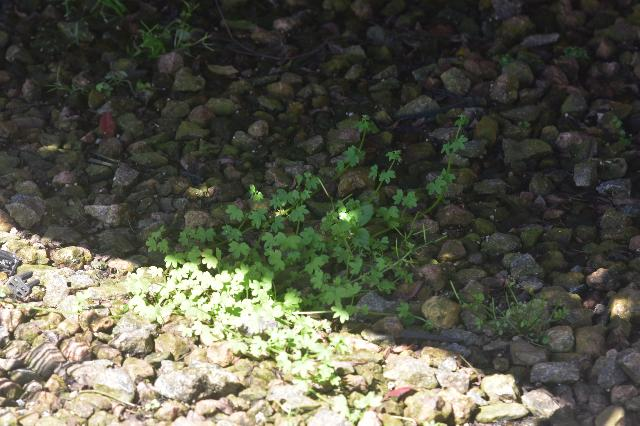MalezaMontesDelPlata: (134, 110, 458, 363), (128, 0, 215, 65)
